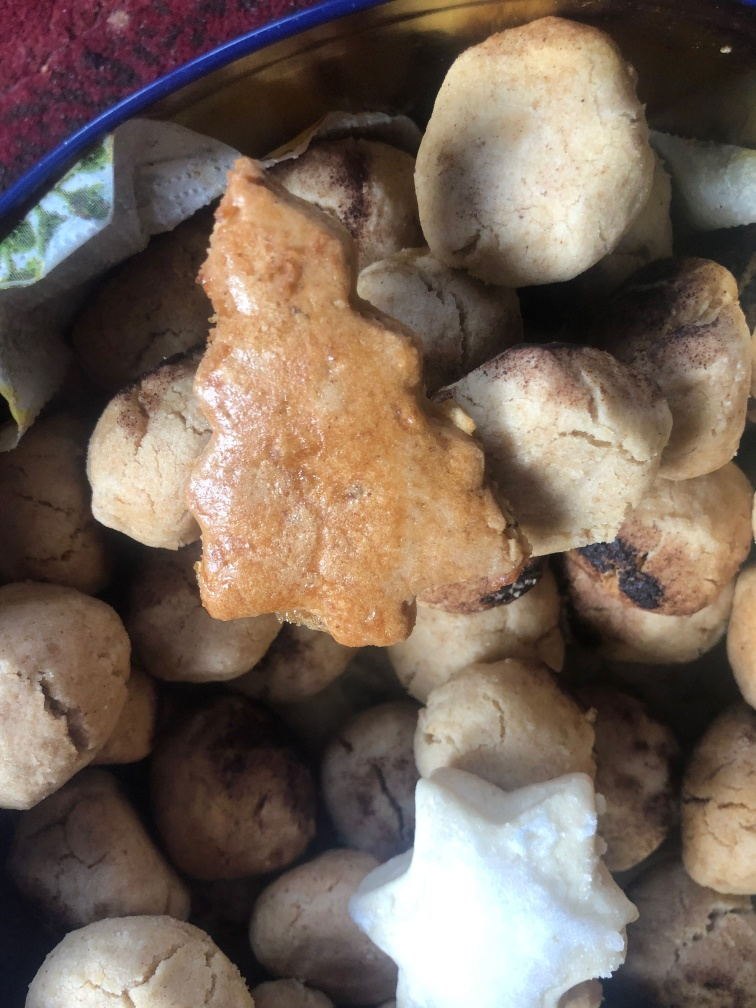christmas tree: (172, 152, 530, 657)
snowball: (411, 12, 655, 289), (458, 335, 670, 549), (1, 578, 129, 808), (153, 696, 318, 867), (412, 656, 596, 804), (82, 357, 218, 557), (577, 461, 750, 615)
star: (351, 768, 638, 1003)
